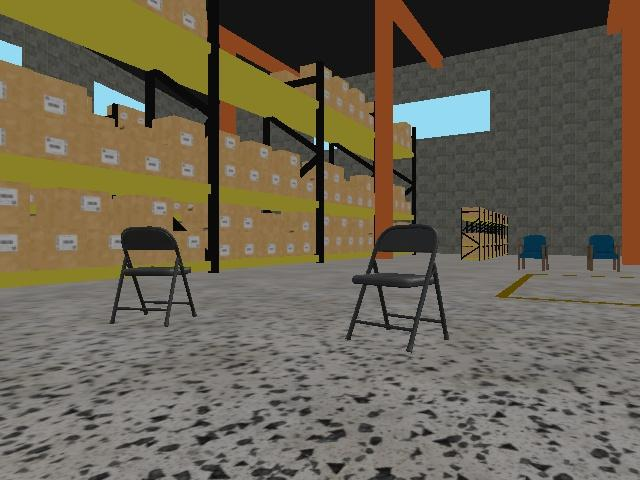chair: (345, 225, 449, 352), (109, 226, 198, 326), (586, 234, 621, 272), (518, 234, 549, 271)
